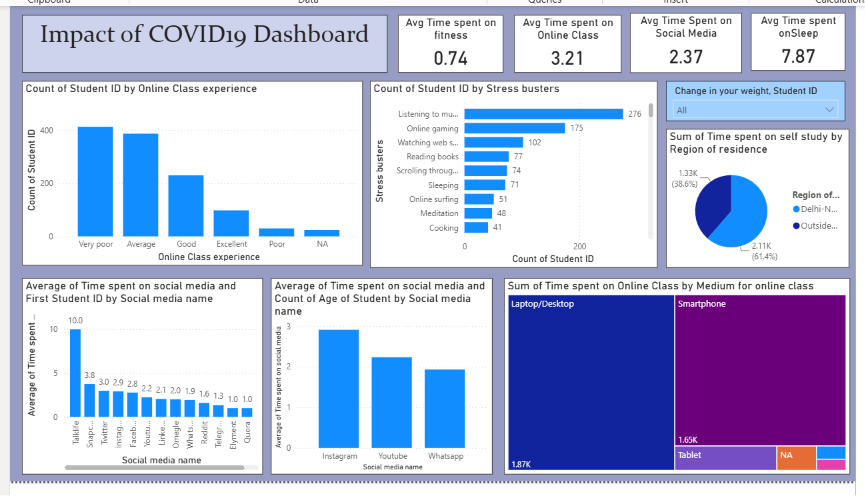

This screenshot's page, from the dashboard's own definition file:
{"tool":"powerbi","page":{"name":"Page 1","canvas":[1280,720],"ordinal":0},"visuals":[{"type":"textbox","box":[18.1,13.1,553.5,87],"z":0},{"type":"card","title":"Avg Time spent on fitness","fields":{"Values":["Avg(Student_Survey.Time spent on fitness)"]},"box":[588,13.1,159.3,87],"z":1000},{"type":"card","title":"Avg Time spent on Online Class","fields":{"Values":["Avg(Student_Survey.Time spent on Online Class)"]},"box":[763.7,13.1,162.6,87],"z":2000},{"type":"card","title":"Avg Time spent onSleep","fields":{"Values":["Avg(Student_Survey.Time spent on sleep)"]},"box":[1121.8,9.9,142.9,87],"z":3000},{"type":"card","title":"Avg Time Spent on Social Media","fields":{"Values":["Avg(Student_Survey.Time spent on social media)"]},"box":[939.5,9.9,169.2,90.3],"z":4000},{"type":"slicer","fields":{"Values":["Student_Survey.Change in your weight","Student_Survey.Student ID"]},"box":[993.7,113.3,271,60.8],"z":5000},{"type":"barChart","fields":{"Category":["Student_Survey.Stress busters"],"Y":["CountNonNull(Student_Survey.Student ID)"]},"box":[545.3,113.3,435.2,282.5],"z":6000},{"type":"columnChart","fields":{"Category":["Student_Survey.Social media name"],"Y":["Avg(Student_Survey.Time spent on social media)"]},"box":[18.1,412.3,364.6,297.3],"z":7000},{"type":"columnChart","fields":{"Category":["Student_Survey.Online Class experience"],"Y":["CountNonNull(Student_Survey.Student ID)"]},"box":[18.1,113.3,515.7,279.2],"z":8000},{"type":"treemap","fields":{"Details":["Student_Survey.Medium for online class"],"Values":["Sum(Student_Survey.Time spent on Online Class)"]},"box":[747.3,412.3,523.9,297.3],"z":9000},{"type":"columnChart","fields":{"Y":["Avg(Student_Survey.Time spent on social media)"],"Category":["Student_Survey.Social media name"]},"box":[395.8,412.3,335.1,297.3],"z":10000},{"type":"pieChart","fields":{"Series":["Student_Survey.Region of residence"],"Y":["Sum(Student_Survey.Time spent on self study)"]},"box":[993.7,185.6,277.6,210.2],"z":11000}]}

Visuals, with their boxes in screenshot pixels (x1, y1, x2, y2):
textbox: rect(19, 11, 388, 69)
"Avg Time spent on fitness" card: rect(399, 11, 505, 69)
"Avg Time spent on Online Class" card: rect(516, 11, 624, 69)
"Avg Time spent onSleep" card: rect(754, 9, 850, 67)
"Avg Time Spent on Social Media" card: rect(633, 9, 746, 69)
slicer - Student_Survey.Change in your weight x Student_Survey.Student ID: rect(669, 78, 850, 118)
barChart - Student_Survey.Stress busters x CountNonNull(Student_Survey.Student ID): rect(370, 78, 660, 266)
columnChart - Student_Survey.Social media name x Avg(Student_Survey.Time spent on social media): rect(19, 277, 262, 475)
columnChart - Student_Survey.Online Class experience x CountNonNull(Student_Survey.Student ID): rect(19, 78, 363, 264)
treemap - Student_Survey.Medium for online class x Sum(Student_Survey.Time spent on Online Class): rect(505, 277, 854, 475)
columnChart - Avg(Student_Survey.Time spent on social media) x Student_Survey.Social media name: rect(271, 277, 494, 475)
pieChart - Student_Survey.Region of residence x Sum(Student_Survey.Time spent on self study): rect(669, 126, 854, 266)
